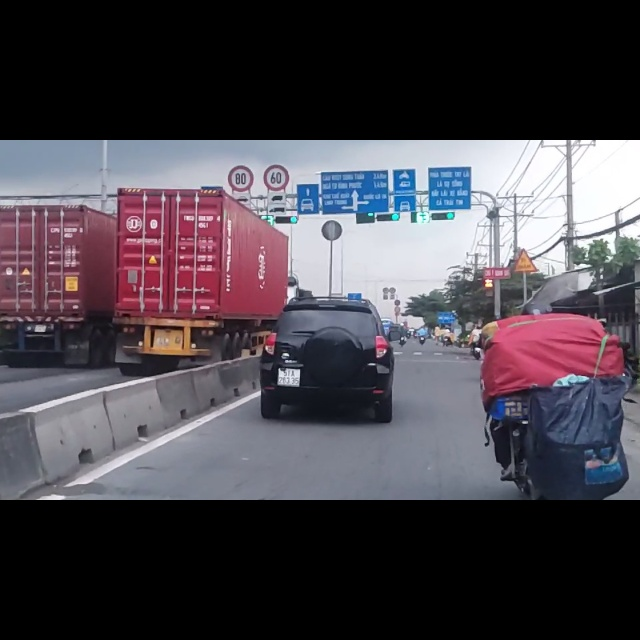bien_cam: (227, 45, 255, 94), (263, 44, 290, 92), (511, 192, 538, 237)
